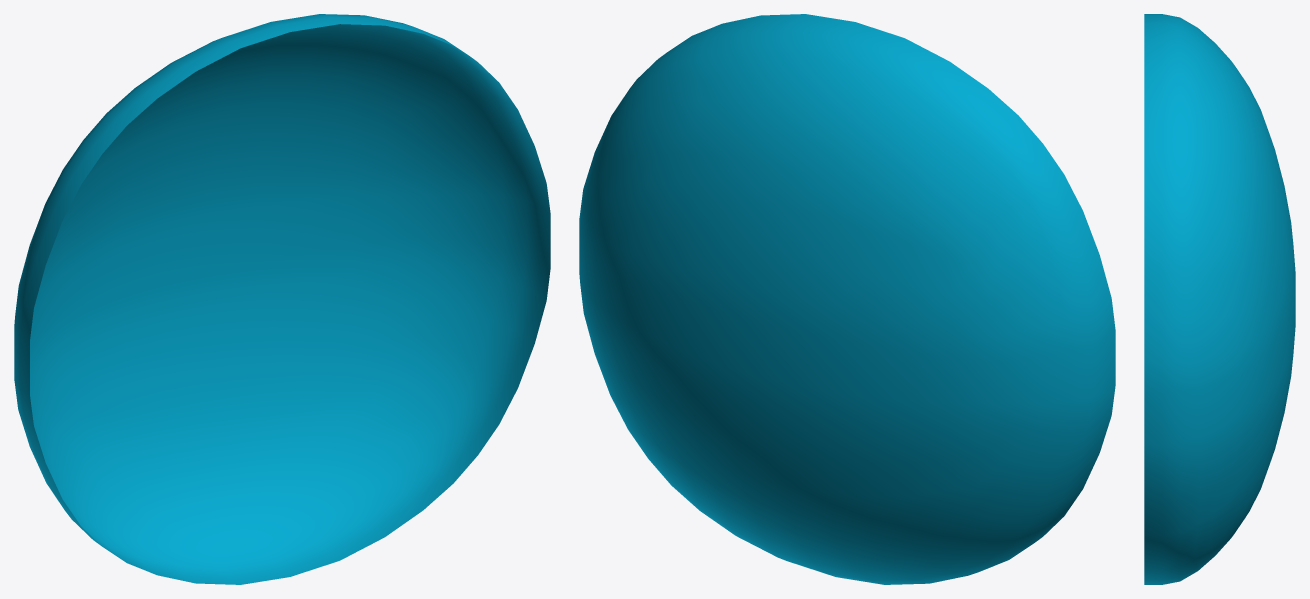
Rendered from shell.fbx.
3 views of the same model, side by side, from view 1: azimuth 30°, elevation 25°; view 2: azimuth 150°, elevation 25°; view 3: azimuth 270°, elevation 25° (orthographic). The views are drawn at different scales.
Parts seen in each view (by area): view 1: portal:Mesh; view 2: portal:Mesh; view 3: portal:Mesh.
Part boxes in pixels (x1,y1,x2,y2): portal:Mesh: (14, 14, 550, 584); portal:Mesh: (579, 14, 1115, 584); portal:Mesh: (1144, 14, 1295, 584).
Size of the model in its own units: 13.55 by 13.55 by 3.62.
